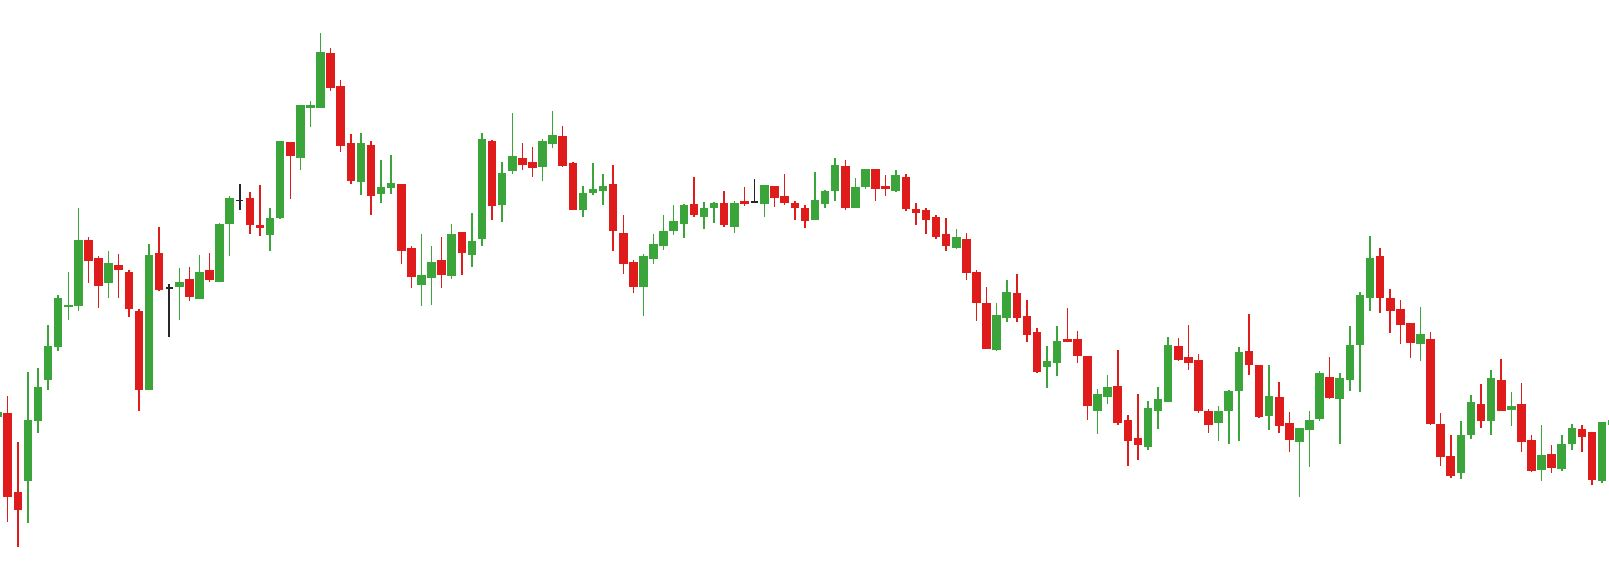buy: (1216, 373, 1305, 503)
sell: (1110, 317, 1194, 408)
